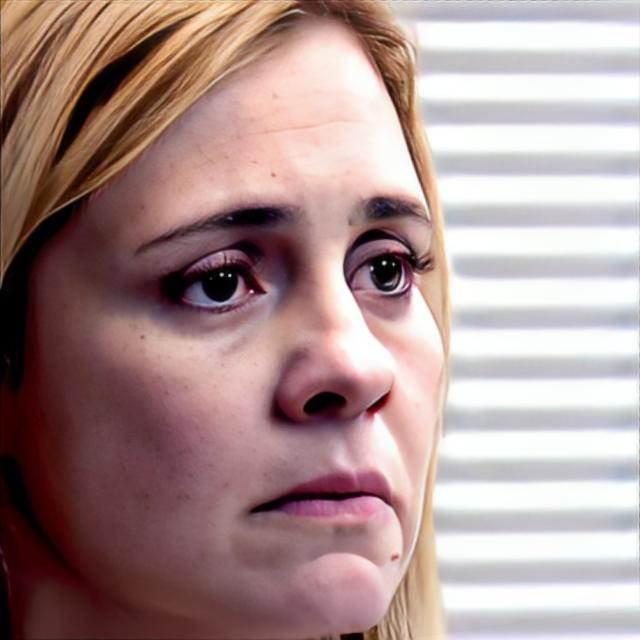sad: (23, 15, 452, 640)
